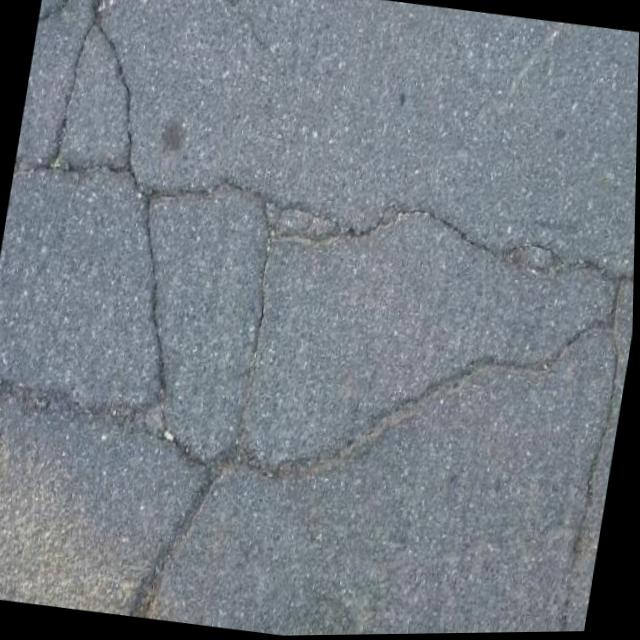Crack: (0, 138, 637, 540), (545, 249, 636, 634), (10, 0, 164, 207), (126, 428, 239, 627)
